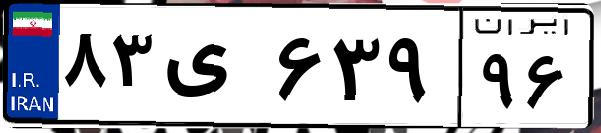3: (330, 28, 385, 110), (110, 28, 158, 98)
6: (270, 28, 330, 110), (525, 38, 570, 115)
8: (57, 26, 110, 100)
9: (385, 28, 445, 110), (475, 38, 525, 113)
ی: (158, 20, 270, 120)
